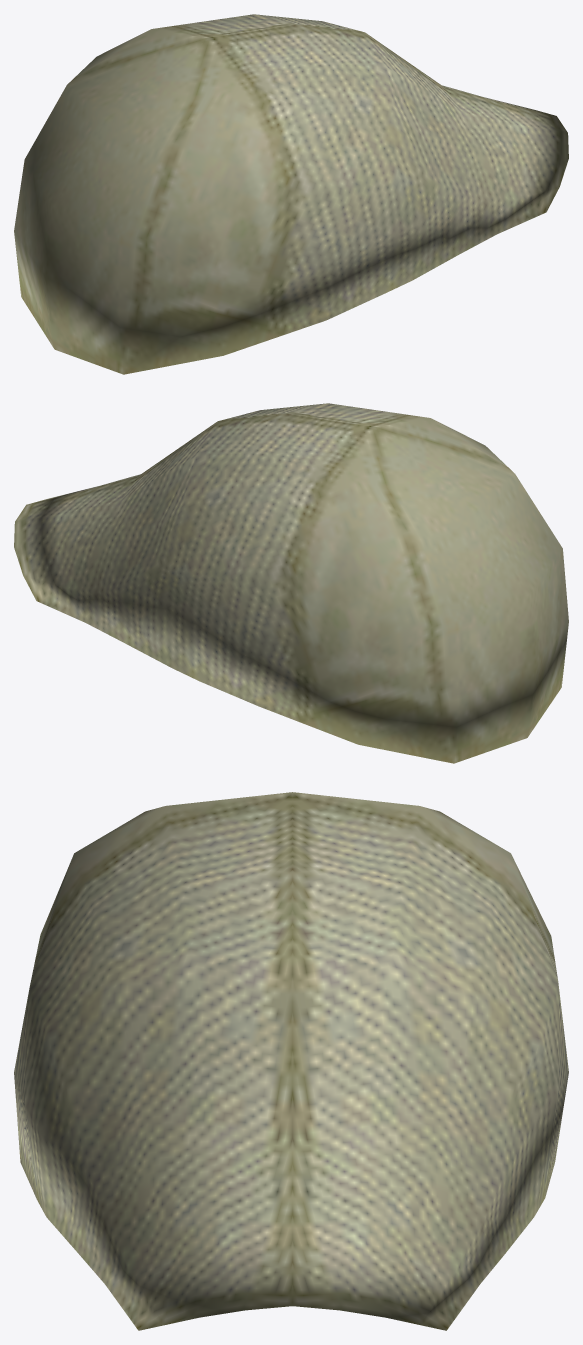
The model's file is hat_0400022.FBX.
3 views of the same model, one above another, from view 1: azimuth 30°, elevation 25°; view 2: azimuth 150°, elevation 25°; view 3: azimuth 270°, elevation 25° (orthographic). The views are drawn at different scales.
Visible parts, largest first — view 1: hat_0400022; view 2: hat_0400022; view 3: hat_0400022.
Boxes of the visible parts, x1,y1,x2,y2 form: hat_0400022: (14, 14, 568, 374); hat_0400022: (14, 403, 568, 763); hat_0400022: (14, 792, 568, 1330).
Bounding box in the file's own units: 37.94 × 19.4 × 23.08.
